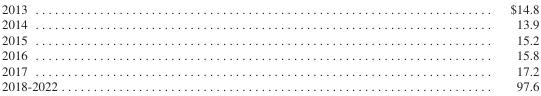table: (0, 1, 538, 93)
table column: (0, 1, 283, 93), (283, 1, 538, 93)
table row: (0, 31, 538, 47), (0, 62, 538, 78), (0, 1, 538, 16), (0, 16, 538, 31), (0, 47, 538, 62), (0, 78, 538, 93)
